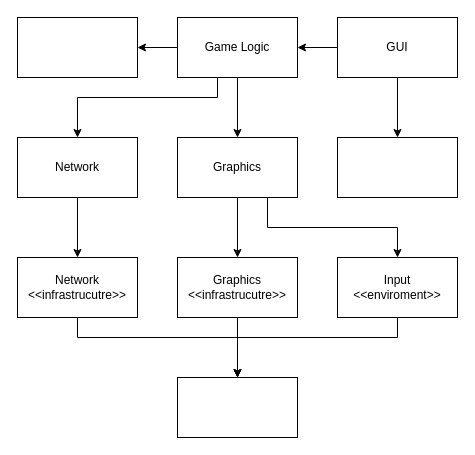
This 475x455 diagram has some shape labels left out. Each missing label, with the box of its shape:
Game Server: (16, 16, 138, 78)
GUI <<enviroment>>: (336, 136, 458, 198)
Sketchy Mine: (176, 376, 298, 438)
